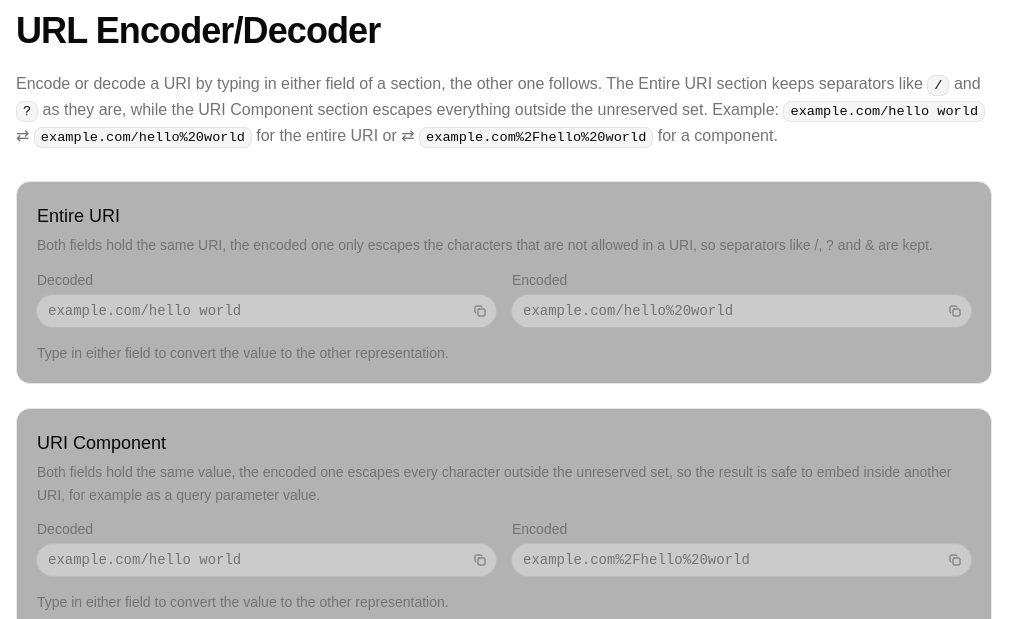
Scenario: URLEncoderDecoder › keeps the two sections independent
Type "a b" into the 1st field labelled "Decoded" at (253,311), box [38,295,468,327]
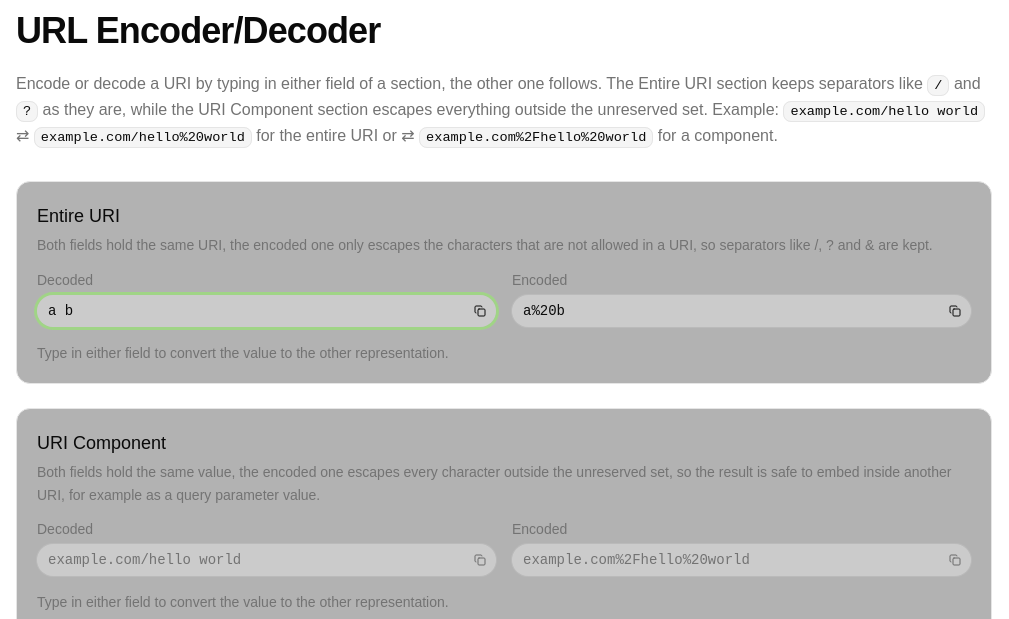
Check: the 2nd field labelled "Encoded" is empty, box [513,544,943,576]
Check: the 1st field labelled "Encoded" holds "a%20b", box [513,295,943,327]
